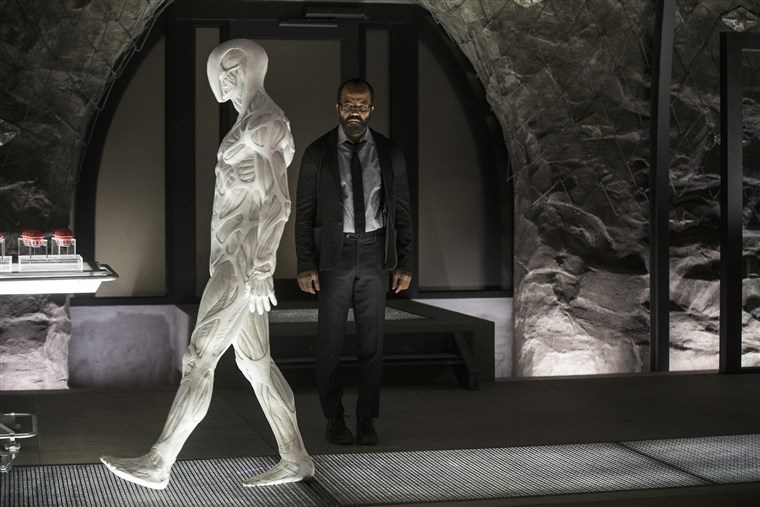person: (289, 72, 419, 450)
person-like: (96, 35, 320, 489)
